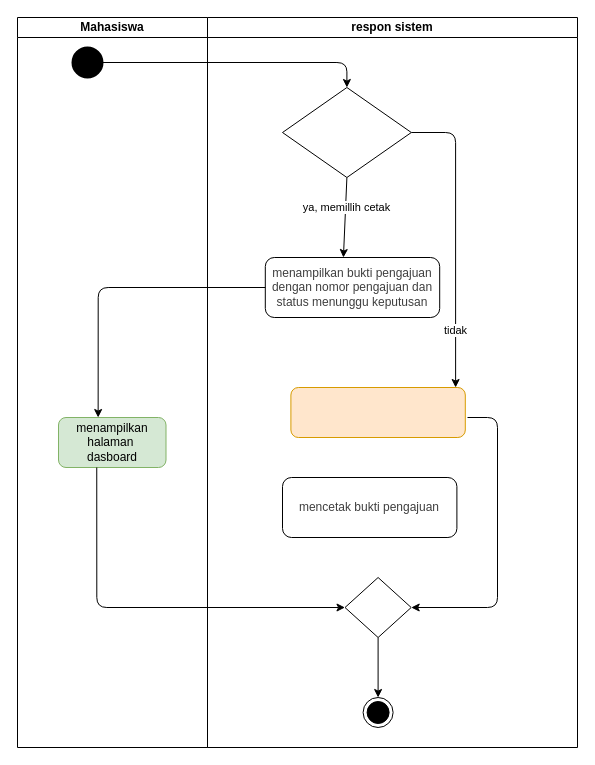
Some shapes in this 595 by 765 pixel diagram are drawn without their labels. Each missing label, with the centre of its shape:
"Mahasiswa memilih cetak bukti" goes at (x=346, y=132).
"menutup konfirmasi tanpa mencetak bukti dan pengajuan tetap tersimpan" goes at (x=377, y=412).
